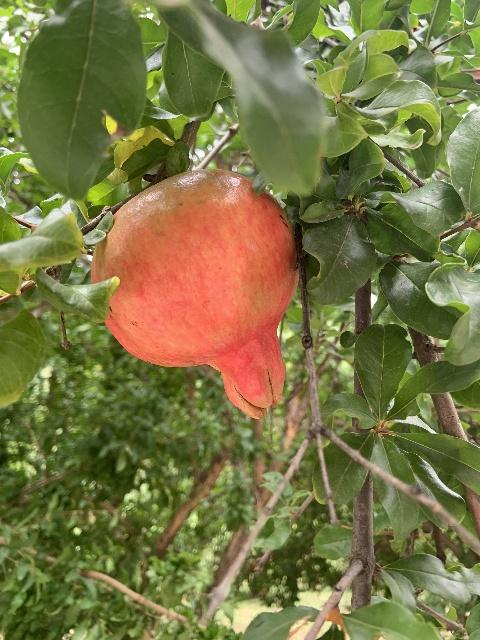ripe: (93, 168, 299, 422)
